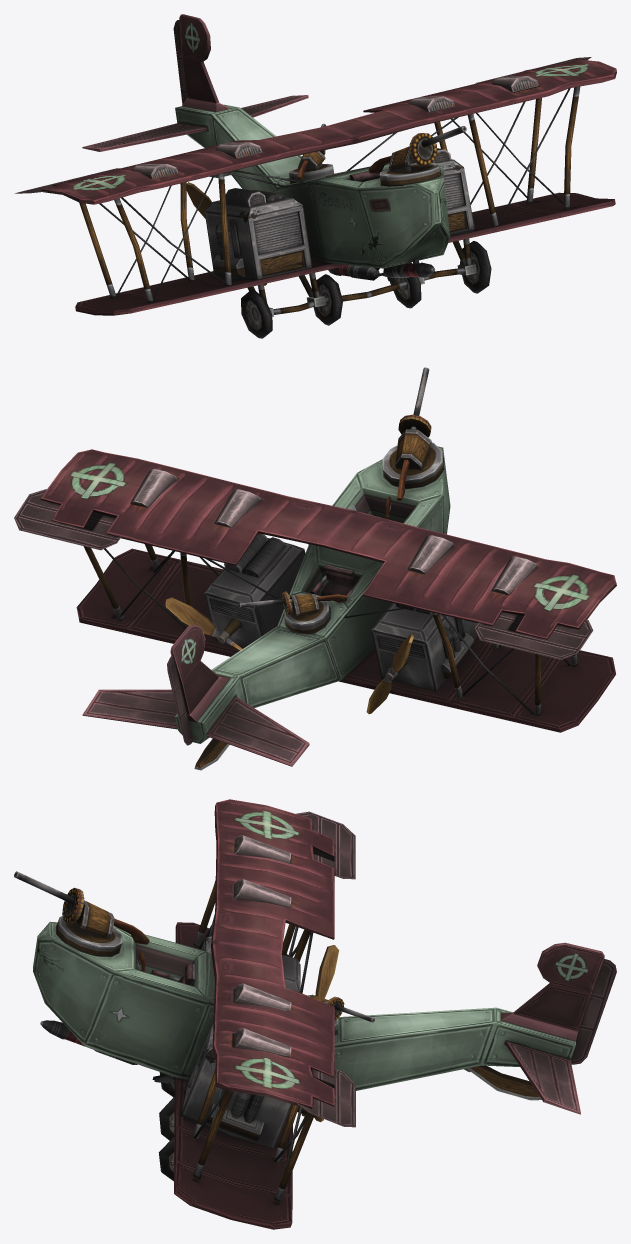
3 views of the same model, one above another, from view 1: azimuth 30°, elevation 25°; view 2: azimuth 150°, elevation 25°; view 3: azimuth 270°, elevation 25° (orthographic). The views are drawn at different scales.
Visible parts, largest first — view 1: Airplane; view 2: Airplane; view 3: Airplane.
Part boxes in pixels (x1,y1,x2,y2): Airplane: [14, 14, 616, 338]; Airplane: [14, 367, 616, 770]; Airplane: [14, 799, 616, 1229].
Bounding box in the file's own units: 360 × 148 × 305.
1 material, 1 textured.
